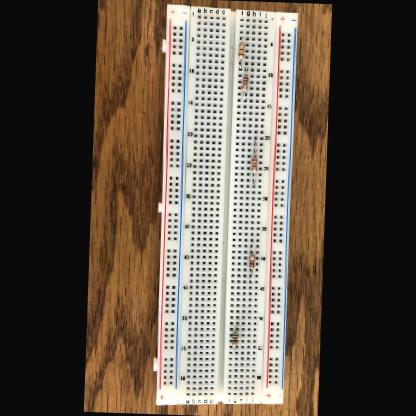breadboard: (150, 4, 300, 410)
resistor: (251, 156, 258, 172), (238, 43, 244, 59), (242, 76, 248, 90), (249, 254, 254, 269), (232, 332, 237, 346)
wire: (254, 139, 257, 156), (234, 347, 238, 355), (240, 60, 243, 70), (253, 172, 255, 186), (252, 241, 254, 254), (250, 269, 252, 282), (236, 322, 238, 332), (244, 91, 246, 101), (246, 68, 248, 76), (241, 38, 243, 43)
